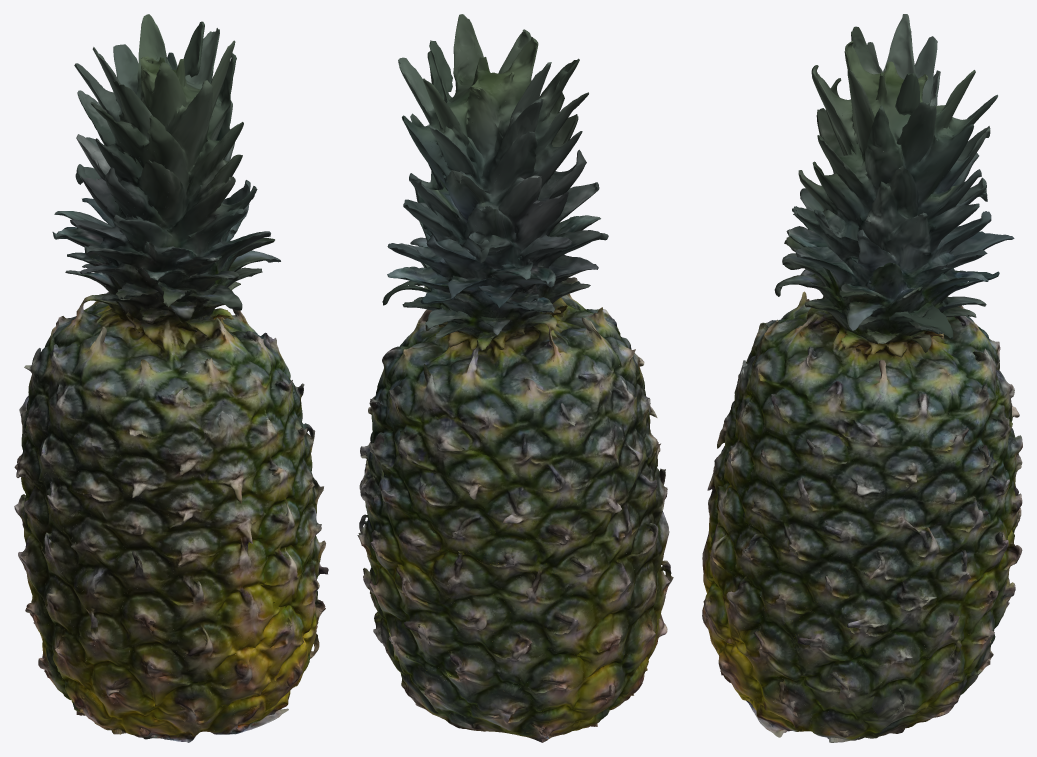
Rendered from 静物_水果_Fruit.. Pineapple_opt.glb.
The picture shows the model from 3 angles, left to right: view 1: azimuth 30°, elevation 25°; view 2: azimuth 150°, elevation 25°; view 3: azimuth 270°, elevation 25°; orthographic projection. The views are drawn at different scales.
Parts seen in each view (by area): view 1: defaultMat; view 2: defaultMat; view 3: defaultMat.
Boxes of the visible parts, x1,y1,x2,y2 form: defaultMat: (14, 14, 328, 742); defaultMat: (357, 14, 673, 742); defaultMat: (702, 14, 1022, 742).
Size of the model in its own units: 0.0859 by 0.2 by 0.088.
Materials: 1 (1 with a texture image).
